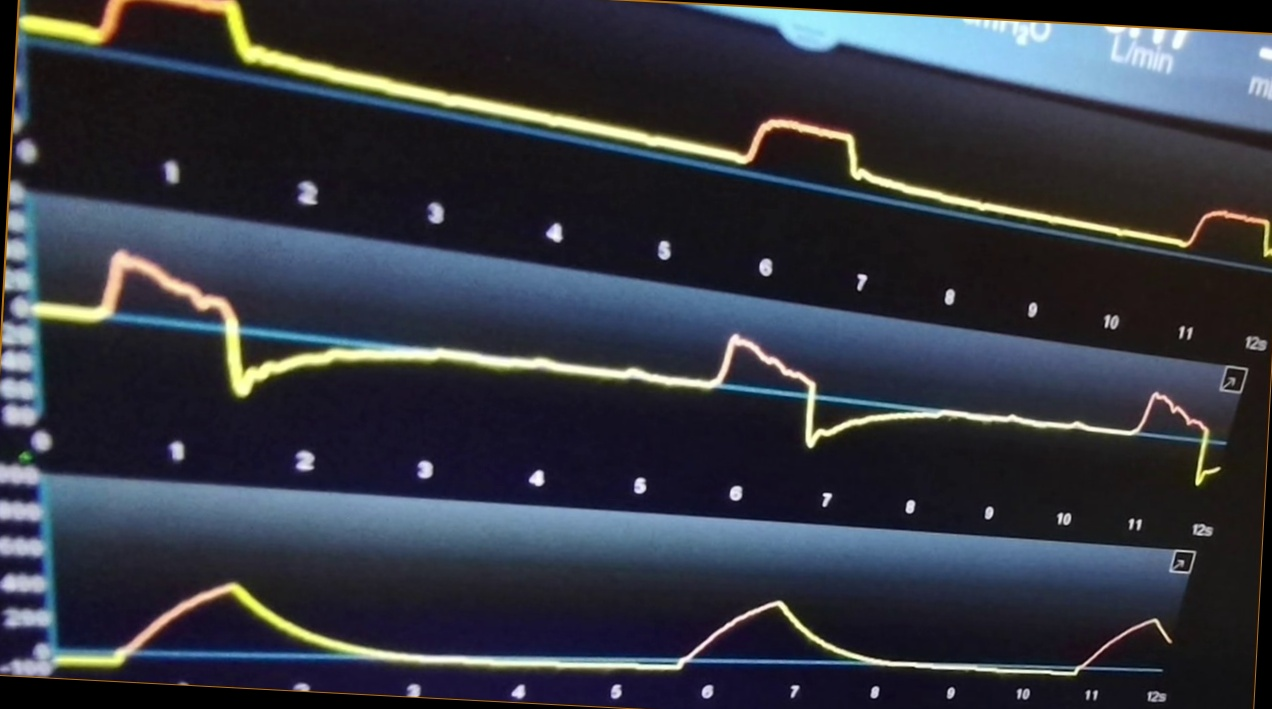Accumulation Flow: (45, 246, 1221, 490)
Volume: (57, 578, 1170, 677)
